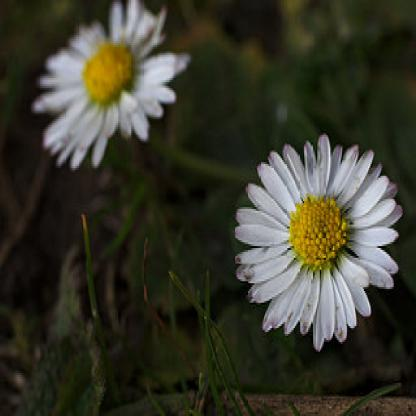ASTER: (31, 7, 404, 352)
